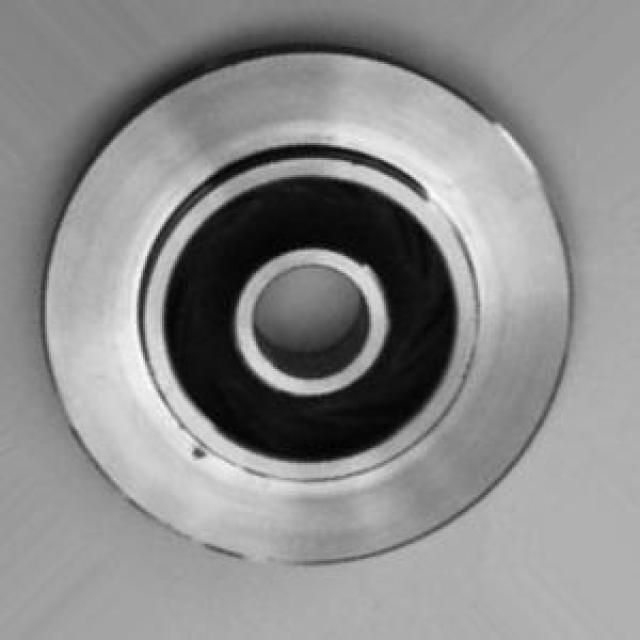Defect: (185, 434, 211, 467)
